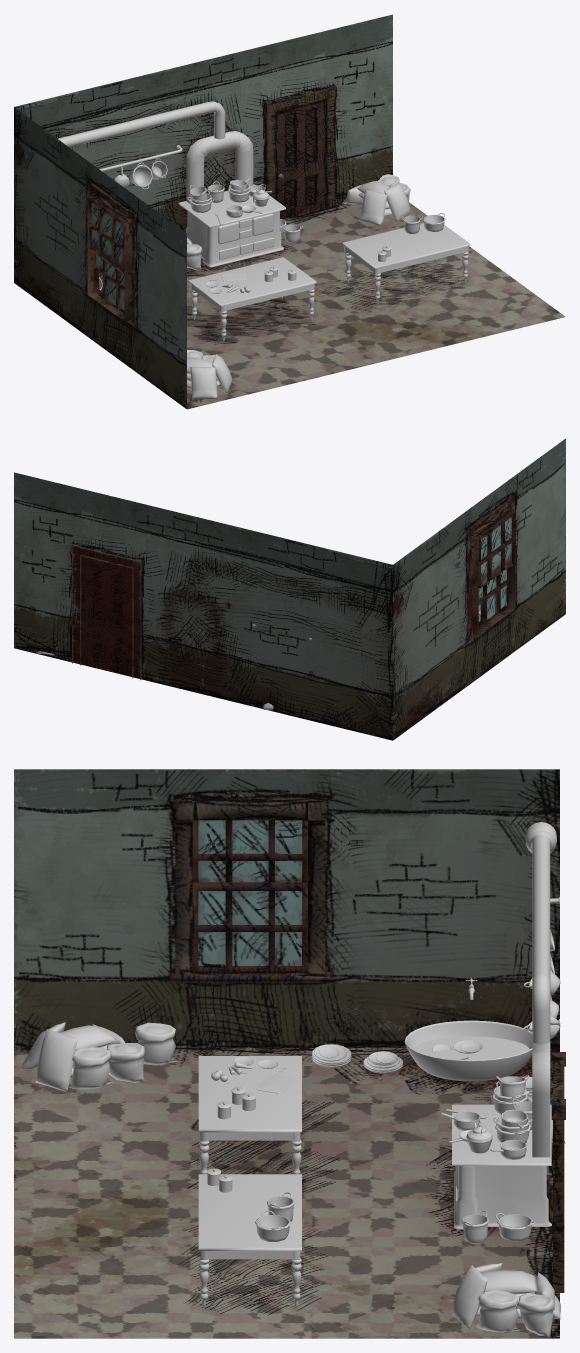
The model's file is kitchen scene full.fbx.
3 views of the same model, one above another, from view 1: azimuth 30°, elevation 25°; view 2: azimuth 150°, elevation 25°; view 3: azimuth 270°, elevation 25° (orthographic). The views are drawn at different scales.
Visible parts, largest first — view 1: Wall, Strove.001; view 2: Wall; view 3: Wall, Strove.001.
Part boxes in pixels (x1,y1,x2,y2): Wall: (14, 14, 565, 409); Strove.001: (58, 101, 470, 399); Wall: (14, 438, 565, 740); Wall: (14, 769, 565, 1338); Strove.001: (20, 822, 565, 1336).
Size of the model in its own units: 670 by 293 by 527.
